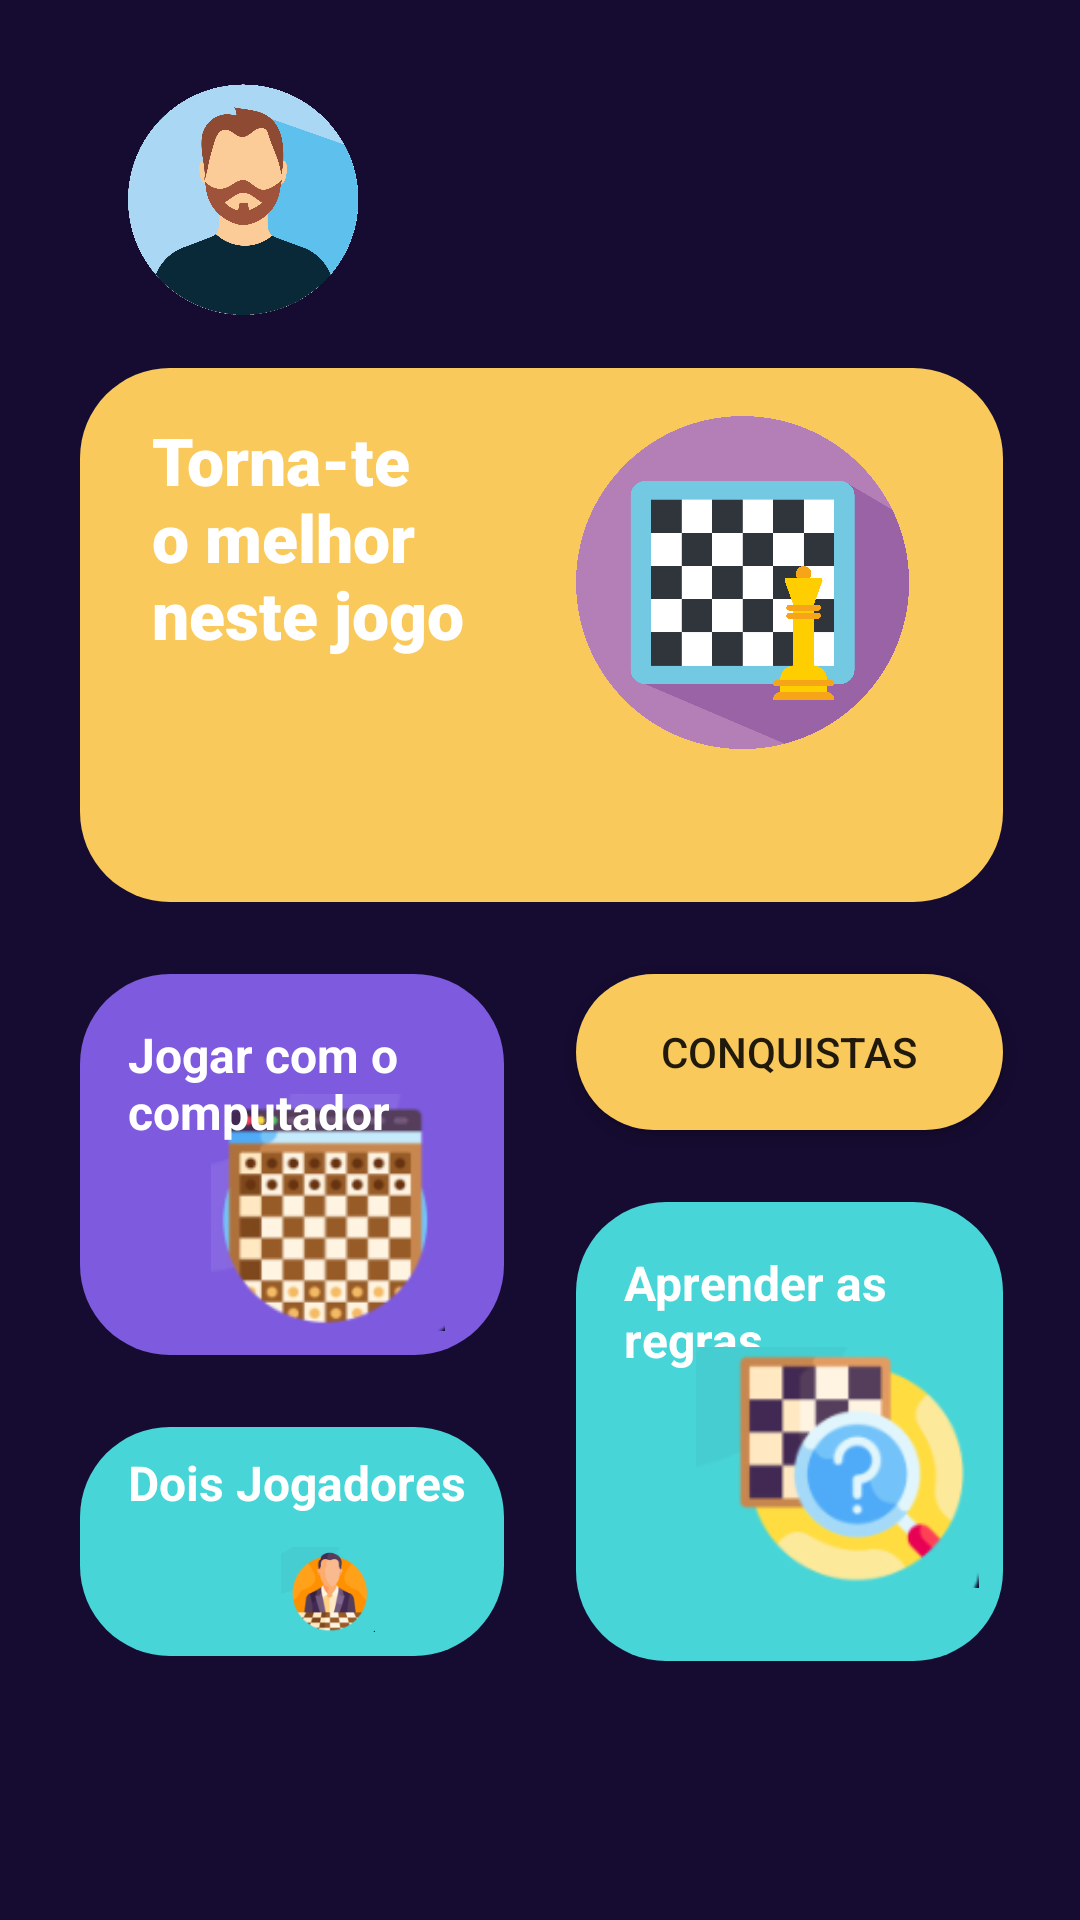

Icon bounding boxes for this 1080w x 1920h phone screenshot, format (x1, y1, x2, y2):
profile: (128, 84, 358, 315)
